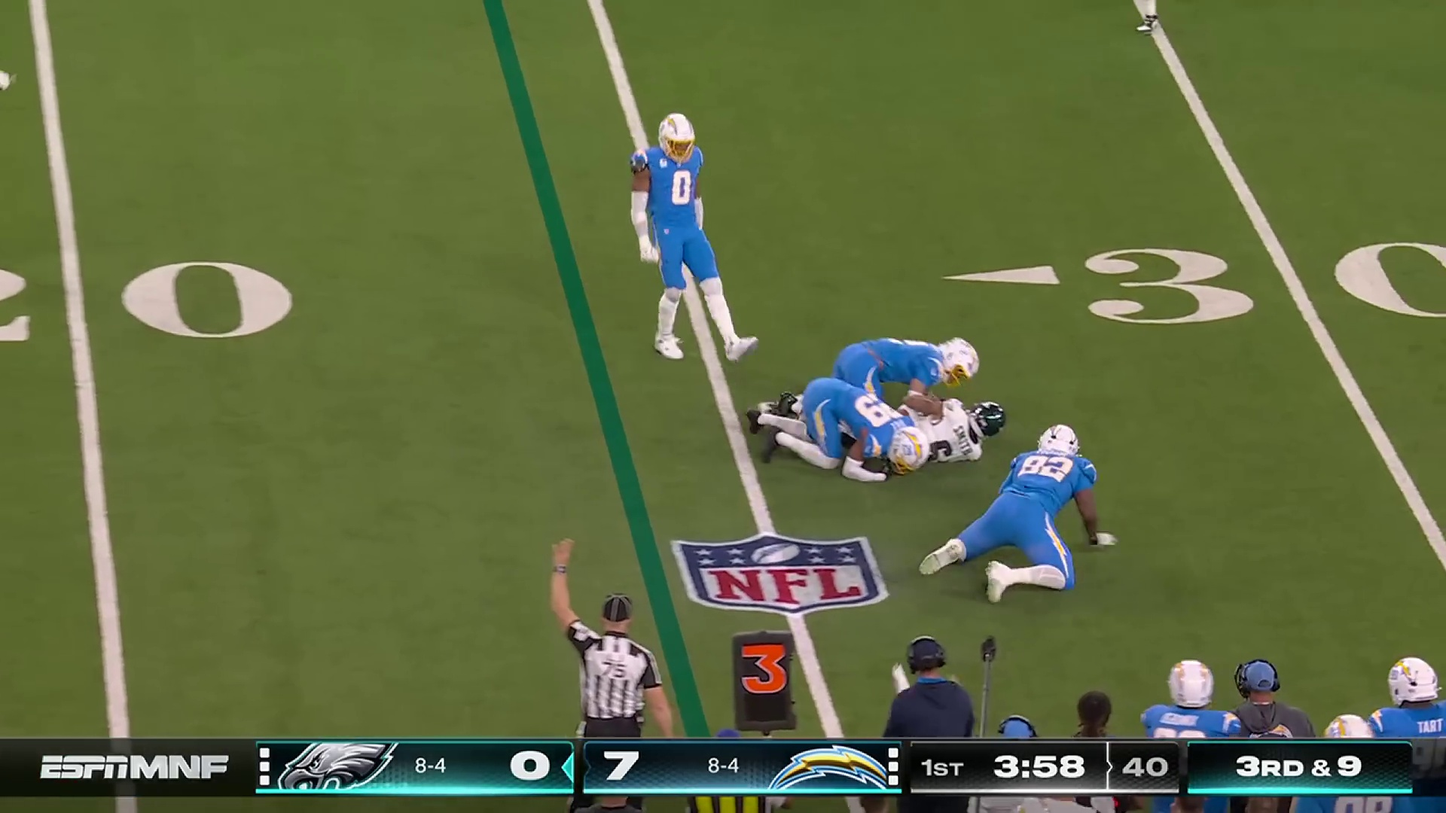ball: (862, 454, 891, 476)
player: (937, 423, 1106, 587), (635, 116, 740, 354), (788, 389, 898, 480), (844, 334, 984, 399), (893, 401, 1012, 451), (1108, 0, 1169, 39)
